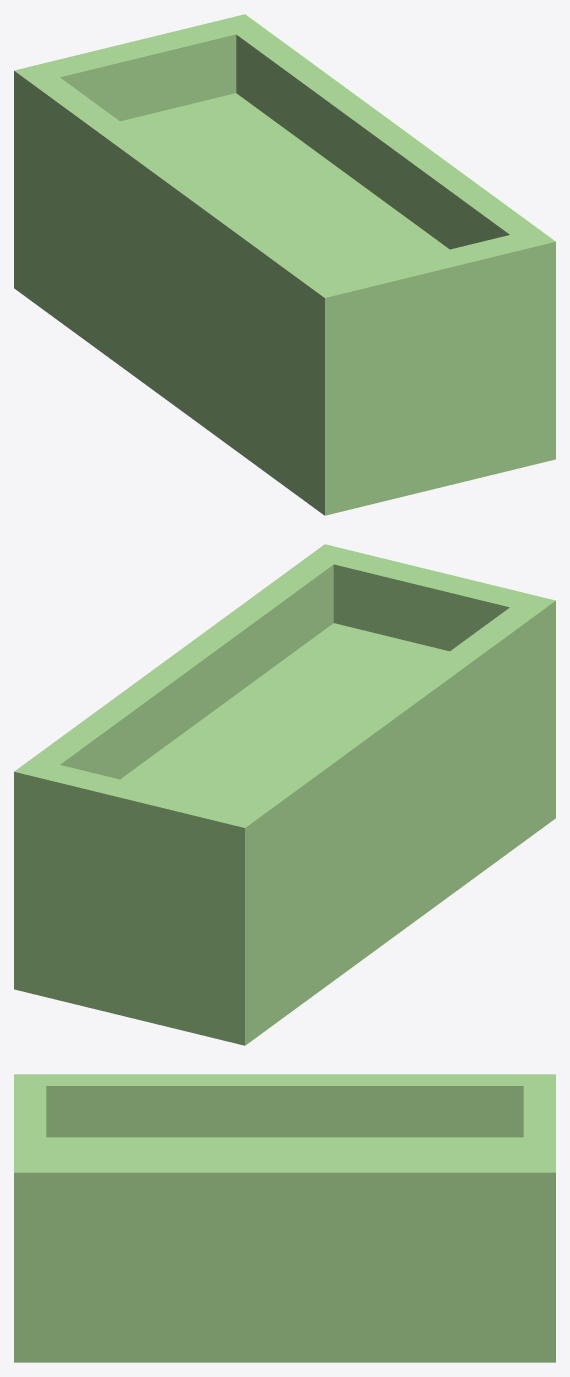
Rendered from cleaning.dae.
3 renders of one model, top to bottom at view 1: azimuth 30°, elevation 25°; view 2: azimuth 150°, elevation 25°; view 3: azimuth 270°, elevation 25°, orthographic. The views are drawn at different scales.
Parts seen in each view (by area): view 1: cleaning.003; view 2: cleaning.003; view 3: cleaning.003.
Part boxes in pixels (x1=…): cleaning.003: x1=14, y1=14, x2=555, y2=515; cleaning.003: x1=14, y1=544, x2=555, y2=1045; cleaning.003: x1=14, y1=1074, x2=555, y2=1362.
Bounding box in the file's own units: 1 × 2.33 × 0.8999.
